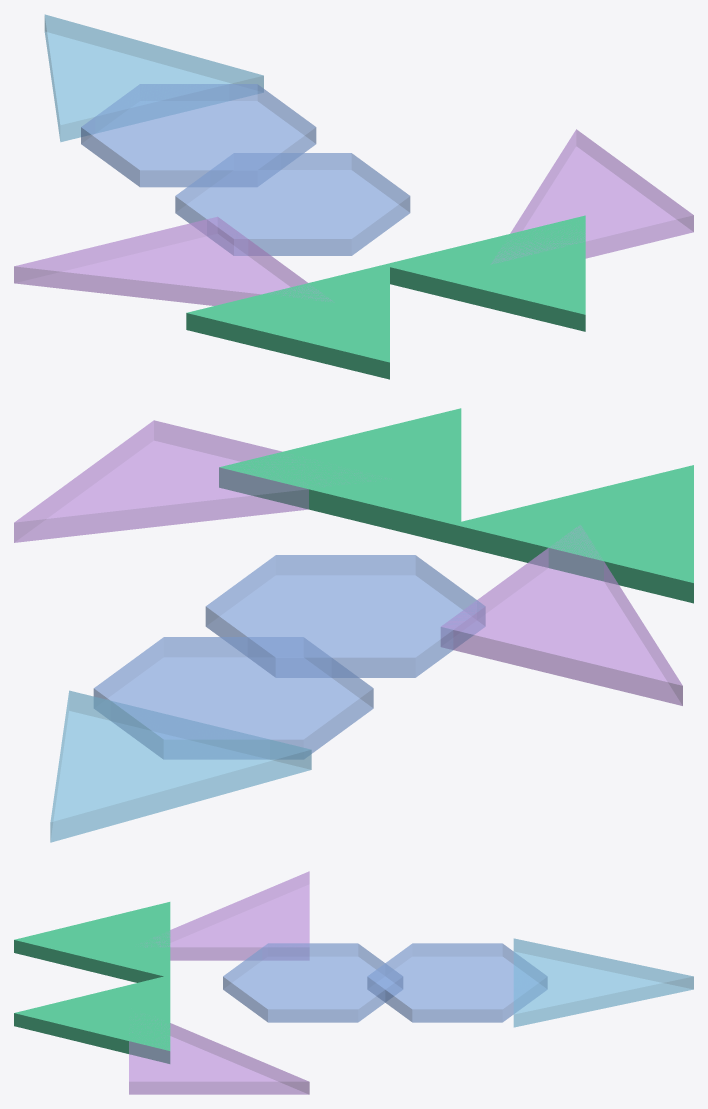
The model's file is razzo_step6.glb.
3 renders of one model, top to bottom at view 1: azimuth 30°, elevation 25°; view 2: azimuth 150°, elevation 25°; view 3: azimuth 270°, elevation 25°, orthographic. The views are drawn at different scales.
Visible parts, largest first — view 1: esagono.001, esagono, triangolo_isoscele_grande, triangolo_rettangolo, triangolo_equilatero, triangolo_equilatero.001, triangolo_rettangolo.001; view 2: esagono, esagono.001, triangolo_isoscele_grande, triangolo_rettangolo, triangolo_rettangolo.001, triangolo_equilatero, triangolo_equilatero.001; view 3: esagono, esagono.001, triangolo_isoscele_grande, triangolo_rettangolo, triangolo_equilatero.001, triangolo_rettangolo.001, triangolo_equilatero.
Boxes of the visible parts, x1,y1,x2,y2 form: esagono.001: (81, 84, 316, 187); esagono: (175, 153, 410, 255); triangolo_isoscele_grande: (44, 14, 263, 142); triangolo_rettangolo: (14, 216, 332, 305); triangolo_equilatero: (186, 263, 389, 379); triangolo_equilatero.001: (384, 215, 585, 331); triangolo_rettangolo.001: (491, 129, 693, 264); esagono: (205, 555, 485, 677); esagono.001: (93, 637, 373, 759); triangolo_isoscele_grande: (50, 690, 311, 842); triangolo_rettangolo: (441, 525, 682, 705); triangolo_rettangolo.001: (14, 420, 385, 542); triangolo_equilatero: (451, 465, 693, 603); triangolo_equilatero.001: (219, 408, 461, 544); esagono: (223, 943, 402, 1022); esagono.001: (367, 943, 547, 1022); triangolo_isoscele_grande: (513, 938, 693, 1027); triangolo_rettangolo: (145, 871, 309, 960); triangolo_equilatero.001: (14, 975, 170, 1063); triangolo_rettangolo.001: (129, 1019, 309, 1094); triangolo_equilatero: (14, 902, 170, 982).
Size of the model in its own units: 2.76 by 0.08 by 3.77.
